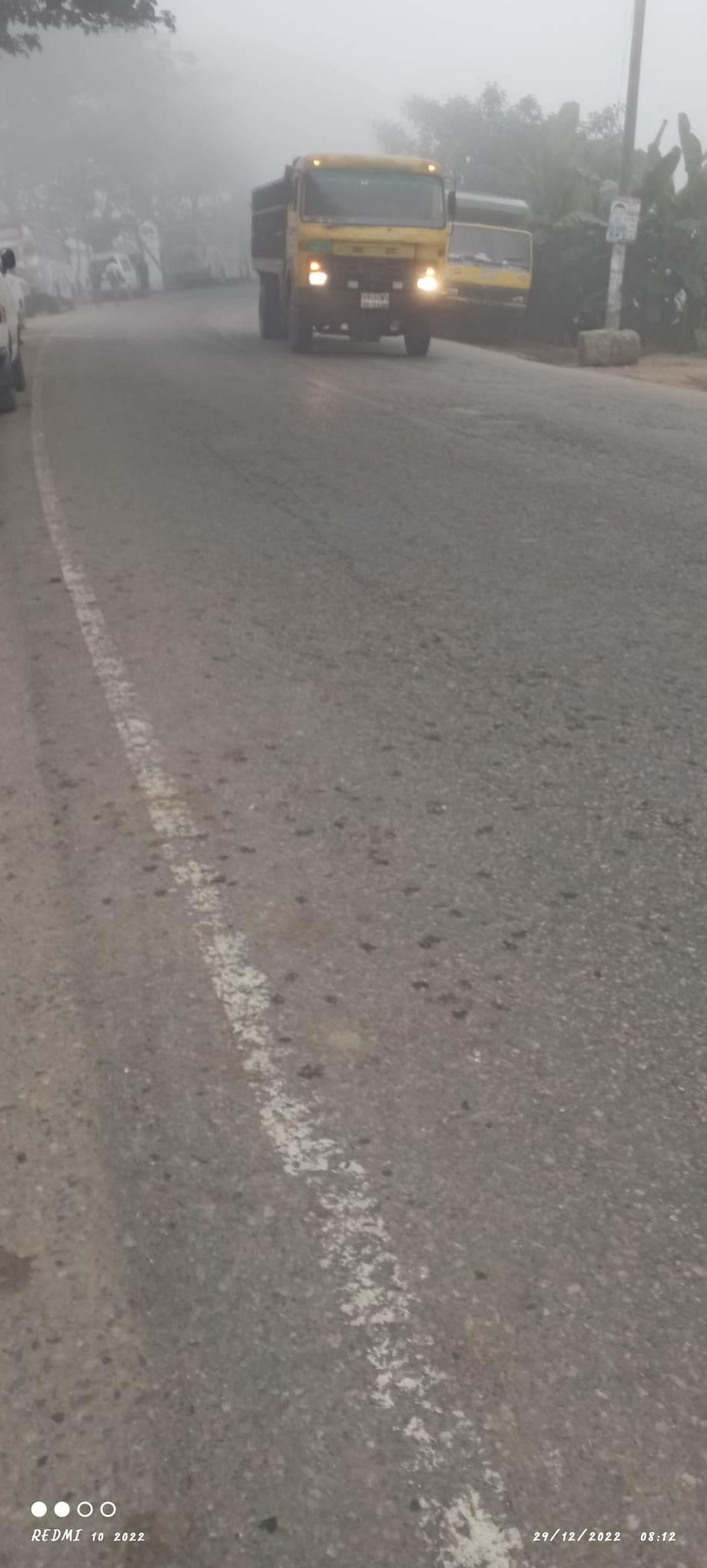Truck: (237, 139, 450, 398), (443, 169, 551, 341)
